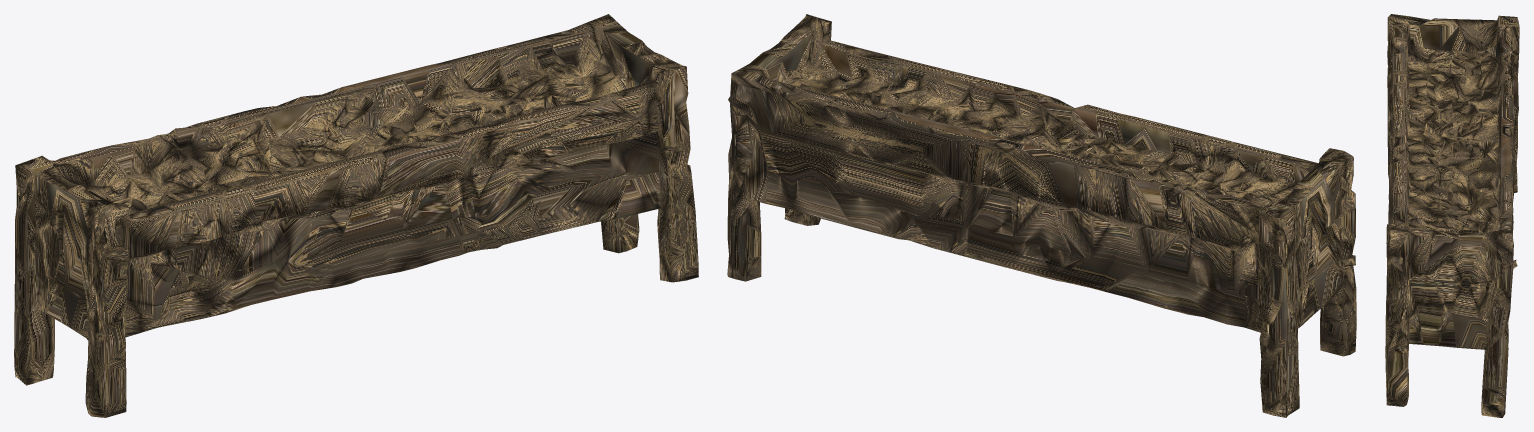
The model's file is straight-feeding-trough.glb.
The picture shows the model from 3 angles, left to right: view 1: azimuth 30°, elevation 25°; view 2: azimuth 150°, elevation 25°; view 3: azimuth 270°, elevation 25°; orthographic projection. The views are drawn at different scales.
Parts seen in each view (by area): view 1: geometry_0; view 2: geometry_0; view 3: geometry_0.
Boxes of the visible parts, box(x1,y1,x2,y2) form: geometry_0: box(14, 14, 698, 417); geometry_0: box(727, 14, 1356, 417); geometry_0: box(1385, 14, 1519, 417).
Bounding box in the file's own units: 1.79 × 0.6458 × 0.4338.
1 material, 1 textured.
